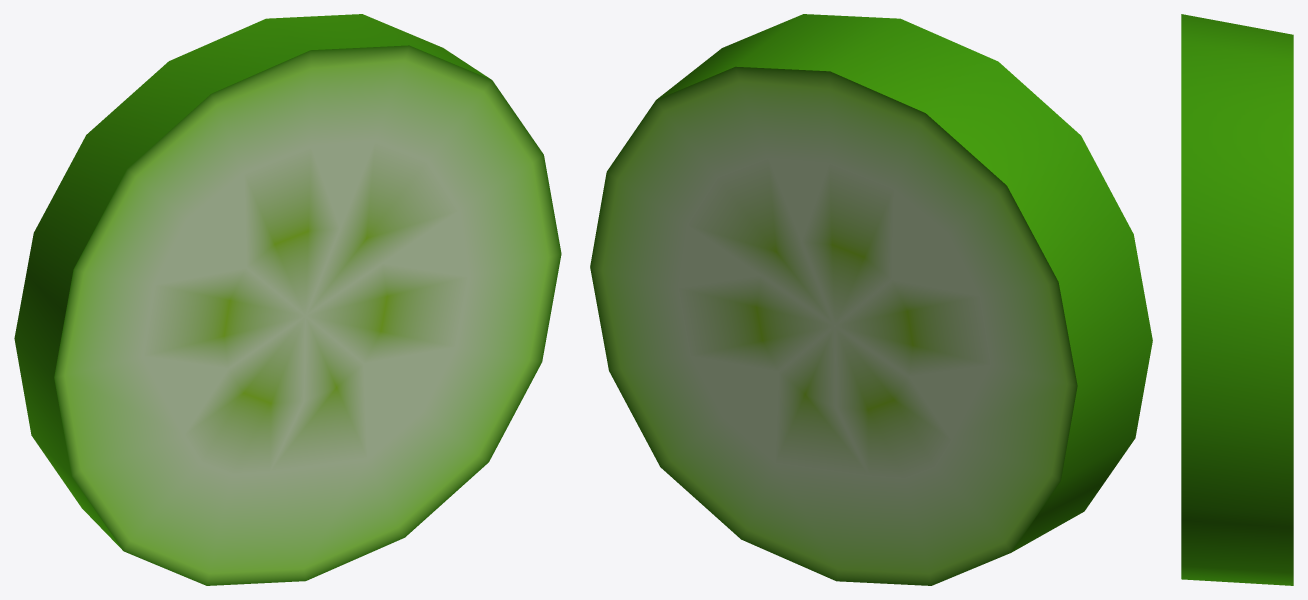
The model's file is Cucumber_Slice_16.fbx.
The picture shows the model from 3 angles, left to right: view 1: azimuth 30°, elevation 25°; view 2: azimuth 150°, elevation 25°; view 3: azimuth 270°, elevation 25°; orthographic projection. The views are drawn at different scales.
Parts seen in each view (by area): view 1: Cucumber_Slice_16; view 2: Cucumber_Slice_16; view 3: Cucumber_Slice_16.
Part boxes in pixels (x1,y1,x2,y2): Cucumber_Slice_16: (14,14,561,585); Cucumber_Slice_16: (590,14,1152,585); Cucumber_Slice_16: (1181,14,1293,585).
Bounding box in the file's own units: 4.39 × 4.34 × 0.8597.
